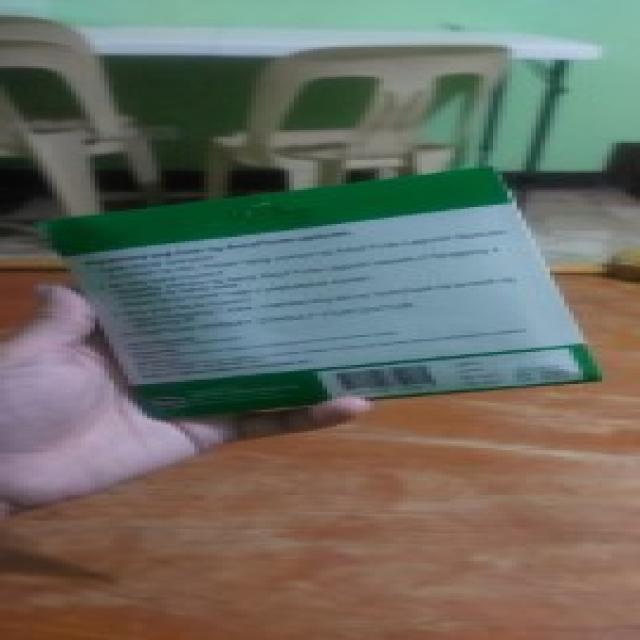Cacat: (33, 171, 600, 413)
